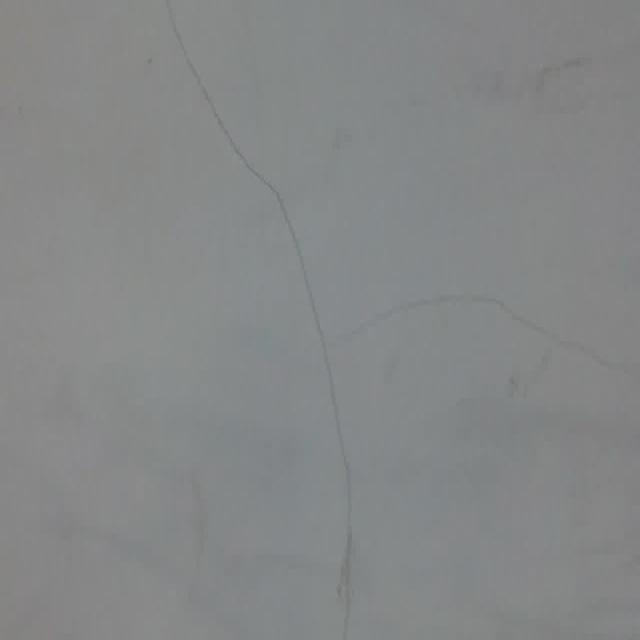Crack: (176, 9, 386, 632), (334, 266, 640, 383)
